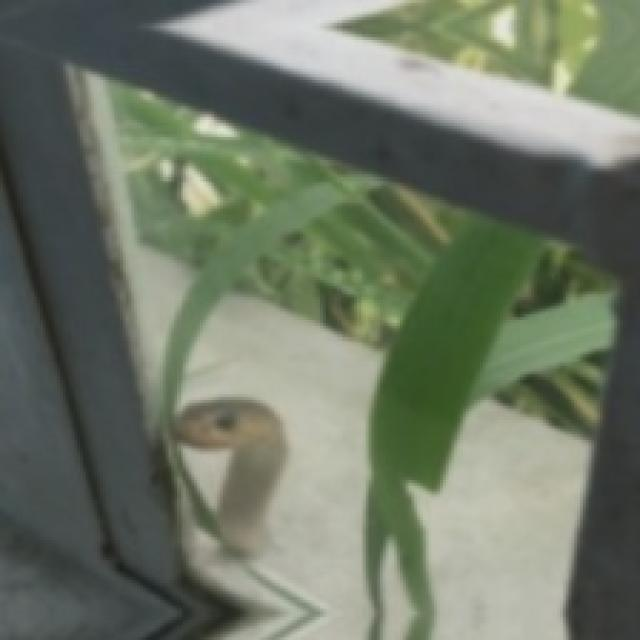philippine cobra: (174, 397, 286, 554)
